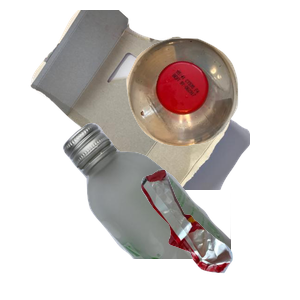glass: (60, 120, 300, 300)
paper: (28, 10, 268, 190)
plastic: (124, 36, 300, 175)
trash: (139, 167, 300, 300)
